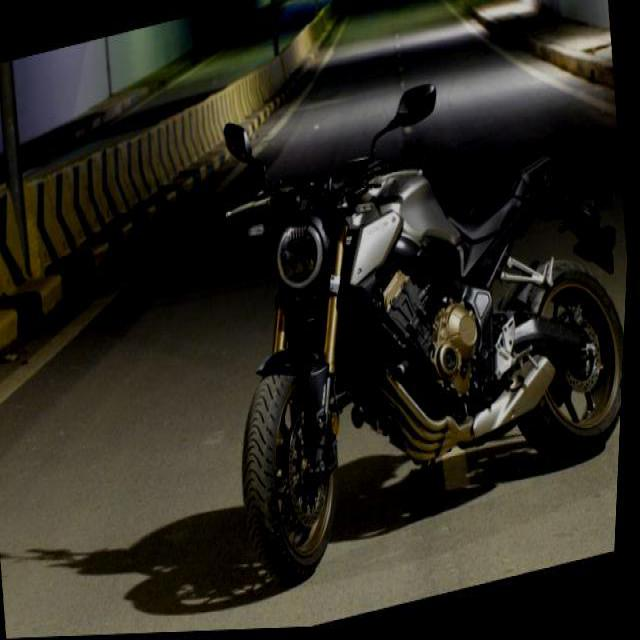CB650R: (206, 104, 634, 600)
